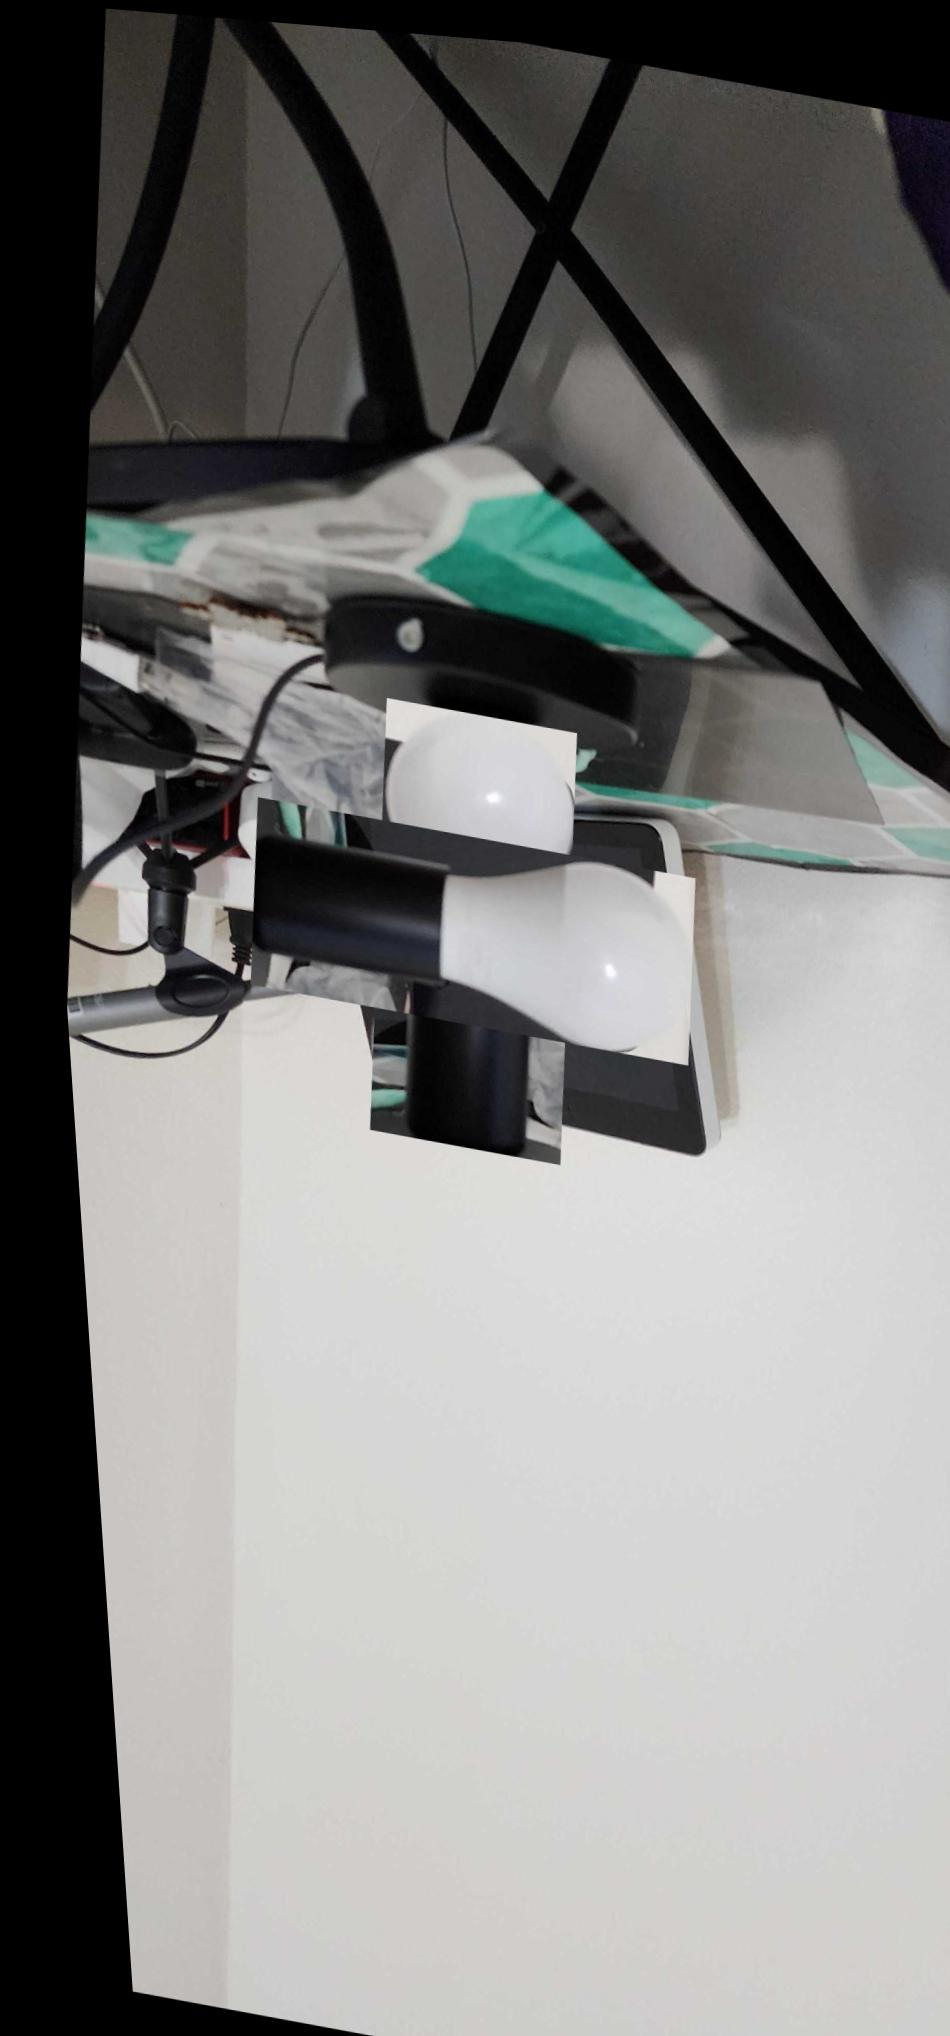Fan: (278, 740, 641, 1108)
